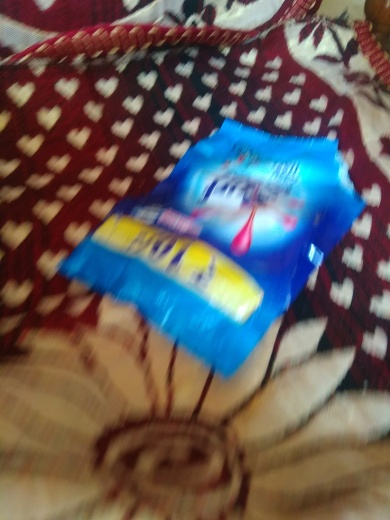surf: (72, 105, 364, 381)
